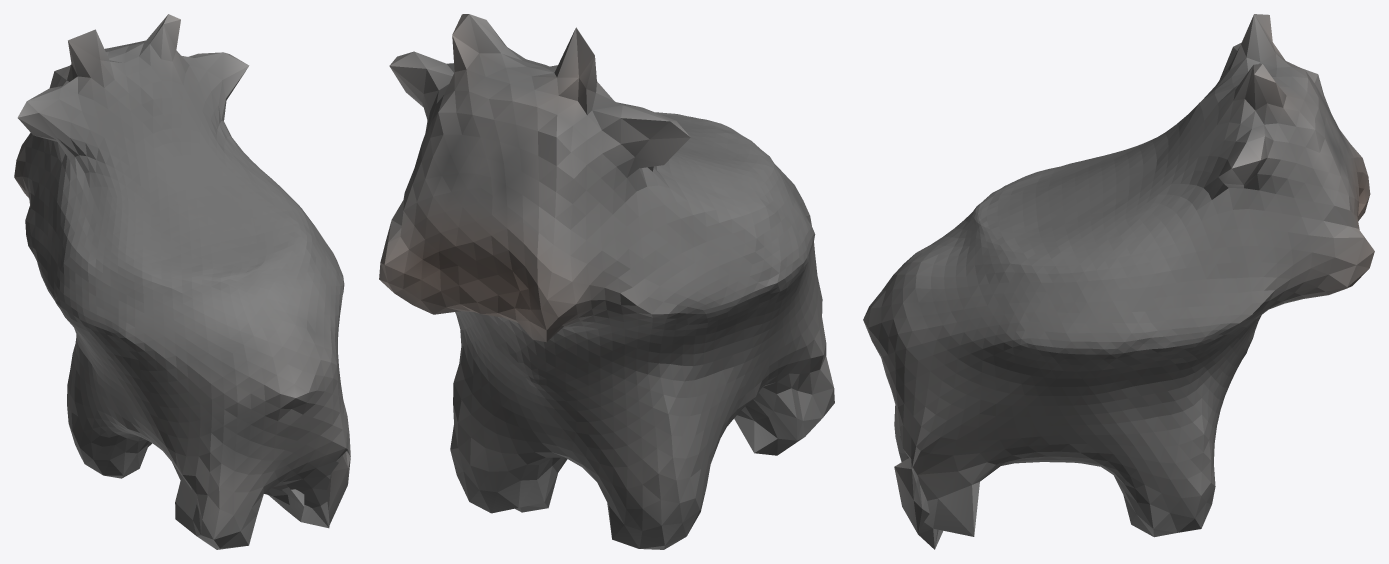
The model's file is colored_mesh_iter_0250.obj.
3 views of the same model, side by side, from view 1: azimuth 30°, elevation 25°; view 2: azimuth 150°, elevation 25°; view 3: azimuth 270°, elevation 25° (orthographic). The views are drawn at different scales.
Bounding box in the file's own units: 1.3 × 2.03 × 1.95.
